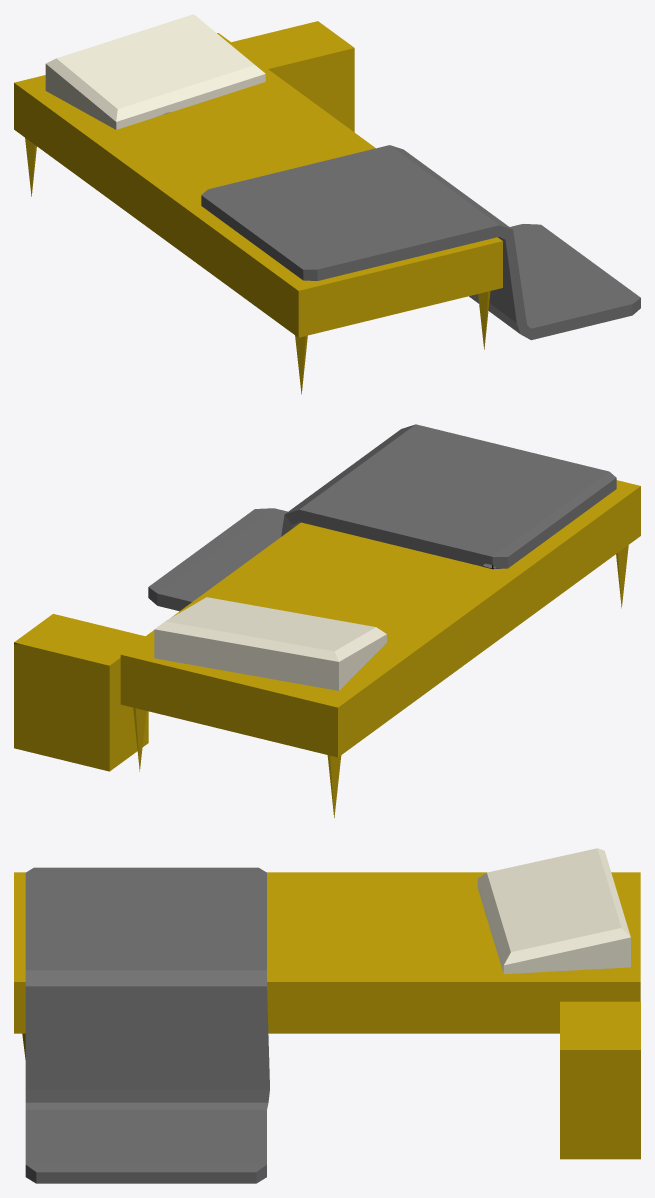
Rendered from Bed.fbx.
3 views of the same model, one above another, from view 1: azimuth 30°, elevation 25°; view 2: azimuth 150°, elevation 25°; view 3: azimuth 270°, elevation 25° (orthographic). The views are drawn at different scales.
Visible parts, largest first — view 1: Cylinder; view 2: Cylinder; view 3: Cylinder.
Boxes of the visible parts, left/top/right/bottom form: Cylinder: left=14, top=14, right=640, bottom=394; Cylinder: left=14, top=424, right=640, bottom=817; Cylinder: left=14, top=848, right=640, bottom=1183.
Size of the model in its own units: 486 by 192 by 680.
1 material, 1 textured.
